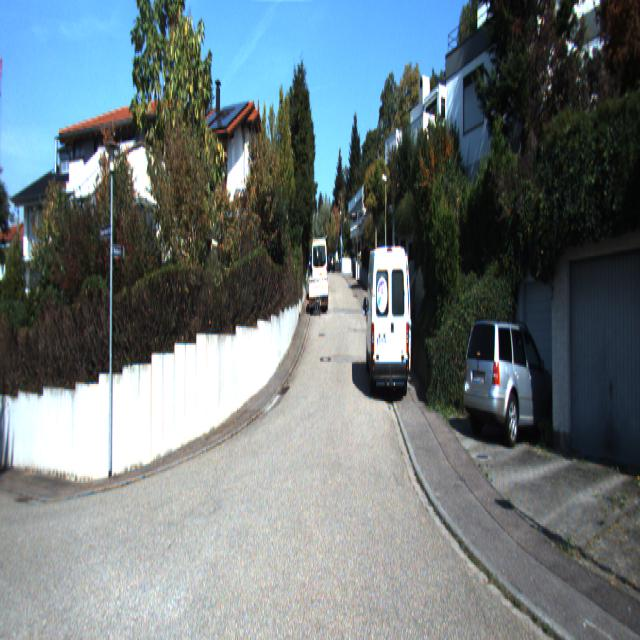Car: (463, 318, 569, 450), (364, 235, 413, 396), (311, 237, 327, 304), (308, 274, 330, 308)
